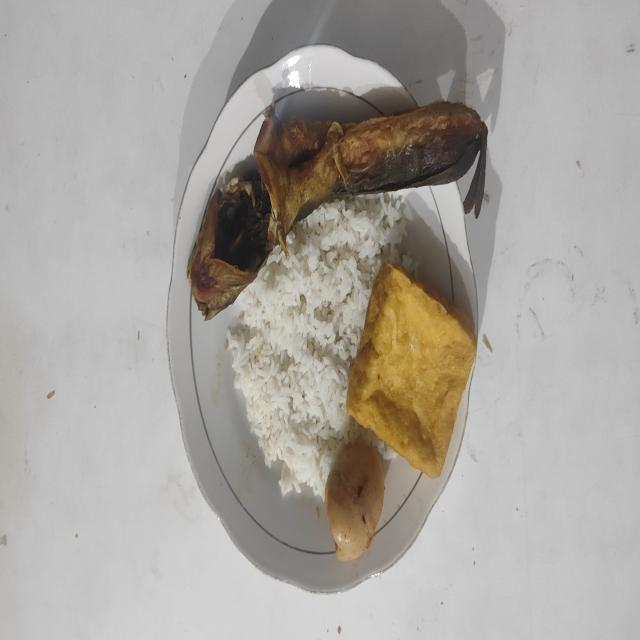nasi_putih: (226, 193, 406, 498)
tahu_goreng: (346, 264, 476, 478)
